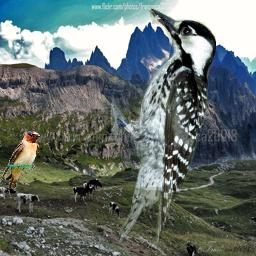Swallow: (0, 131, 41, 189)
Woodpecker: (111, 6, 216, 247)
